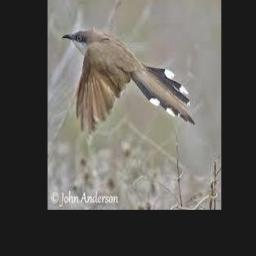Cuckoo: (62, 27, 195, 133)
